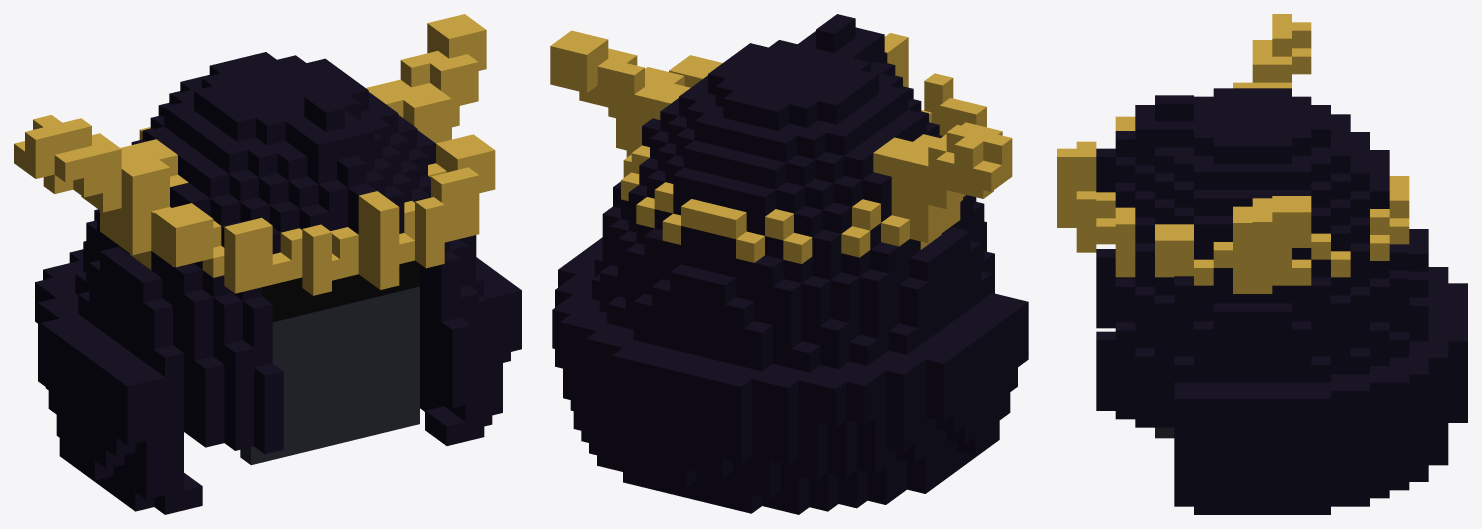
File: mystic_legendary_helmet_lod1.glb
3 views of the same model, side by side, from view 1: azimuth 30°, elevation 25°; view 2: azimuth 150°, elevation 25°; view 3: azimuth 270°, elevation 25° (orthographic). The views are drawn at different scales.
Parts seen in each view (by area): view 1: mystic_legendary_helmet_lod1; view 2: mystic_legendary_helmet_lod1; view 3: mystic_legendary_helmet_lod1.
Part boxes in pixels (x1=…): mystic_legendary_helmet_lod1: x1=14, y1=14, x2=521, y2=514; mystic_legendary_helmet_lod1: x1=550, y1=14, x2=1028, y2=514; mystic_legendary_helmet_lod1: x1=1057, y1=14, x2=1467, y2=514.
Bounding box in the file's own units: 0.576 × 0.456 × 0.504.
